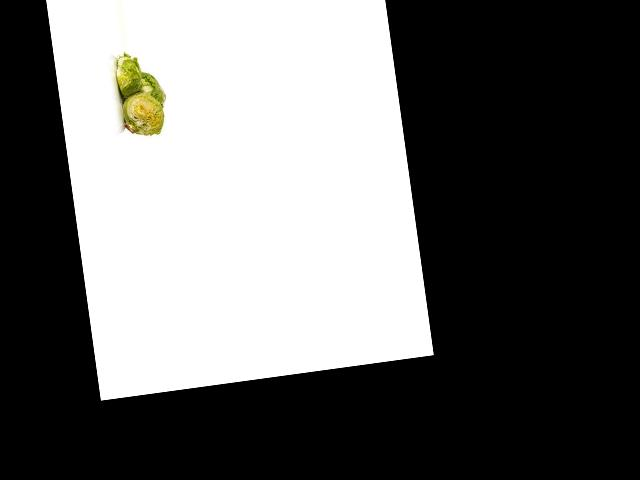lettuce: (132, 65, 169, 115)
